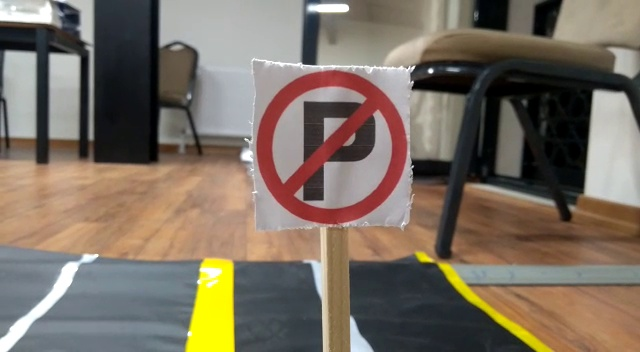park_yapilmaz: (254, 59, 406, 225)
